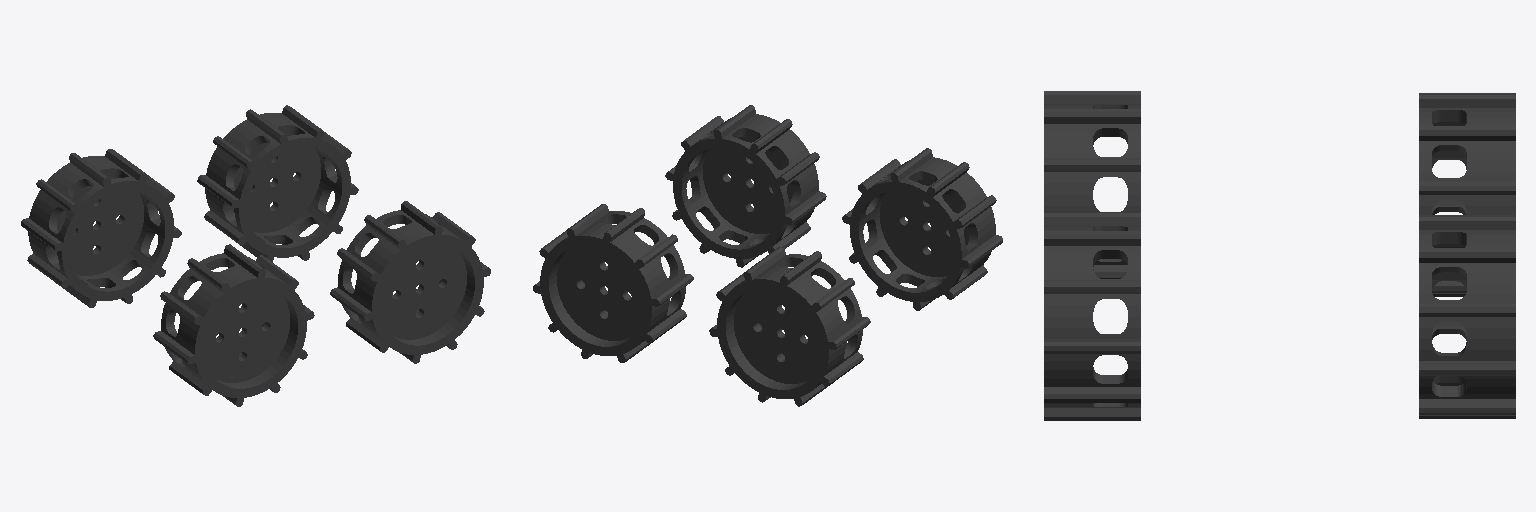
The robot description file, URDF, robot "CubeBuilder":
<?xml version="1.0" ?>
<robot name="CubeBuilder">

    <!-- Structure -->
    <link name="structure">
        <visual>
            <geometry>
                <mesh filename="BuildingBlocks_main_structure_v2.stl" scale="1 1 1"/>
            </geometry>
            <material name="dark_grey">
                <color rgba="0.6 0.6 0.6 1"/>
            </material>
        </visual>
        <collision>
            <geometry>
                <mesh filename="BuildingBlocks_main_structure.stl" scale="1 1 1"/>
            </geometry>
        </collision>
        <inertial>
            <mass value="1.0"/>
            <inertia ixx="0.1" ixy="0" ixz="0" iyy="0.1" iyz="0" izz="0.1"/>
            <origin xyz="0 0 0" rpy="0 0 0"/>
        </inertial>
    </link>

    <!-- Wheel Links -->
    <link name="wheel_FR">
        <visual>
            <geometry>
                <mesh filename="BuildingBlocks_wheel.stl" scale="1 1 1"/>
            </geometry>
            <material name="black">
                <color rgba="0.3 0.3 0.3 1"/>
            </material>
        </visual>
        <collision>
            <geometry>
                <mesh filename="BuildingBlocks_wheel.stl" scale="1 1 1"/>
            </geometry>
        </collision>
        <inertial>
            <mass value="0.05"/>
            <inertia ixx="0.01" ixy="0" ixz="0" iyy="0.01" iyz="0" izz="0.01"/>
        </inertial>
    </link>

    <link name="wheel_FL">
        <visual>
            <geometry>
                <mesh filename="BuildingBlocks_wheel.stl" scale="1 1 1"/>
            </geometry>
            <material name="black">
                <color rgba="0.3 0.3 0.3 1"/>
            </material>
        </visual>
        <collision>
            <geometry>
                <mesh filename="BuildingBlocks_wheel.stl" scale="1 1 1"/>
            </geometry>
        </collision>
        <inertial>
            <mass value="0.05"/>
            <inertia ixx="0.01" ixy="0" ixz="0" iyy="0.01" iyz="0" izz="0.01"/>
        </inertial>
    </link>

    <link name="wheel_RR">
        <visual>
            <geometry>
                <mesh filename="BuildingBlocks_wheel.stl" scale="1 1 1"/>
            </geometry>
            <material name="black">
                <color rgba="0.3 0.3 0.3 1"/>
            </material>
        </visual>
        <collision>
            <geometry>
                <mesh filename="BuildingBlocks_wheel.stl" scale="1 1 1"/>
            </geometry>
        </collision>
        <inertial>
            <mass value="0.05"/>
            <inertia ixx="0.01" ixy="0" ixz="0" iyy="0.01" iyz="0" izz="0.01"/>
        </inertial>
    </link>

    <link name="wheel_RL">
        <visual>
            <geometry>
                <mesh filename="BuildingBlocks_wheel.stl" scale="1 1 1"/>
            </geometry>
            <material name="black">
                <color rgba="0.3 0.3 0.3 1"/>
            </material>
        </visual>
        <collision>
            <geometry>
                <mesh filename="BuildingBlocks_wheel.stl" scale="1 1 1"/>
            </geometry>
        </collision>
        <inertial>
            <mass value="0.05"/>
            <inertia ixx="0.01" ixy="0" ixz="0" iyy="0.01" iyz="0" izz="0.01"/>
        </inertial>
    </link>

    <!-- Joints to Attach Wheels to Structure with Free Rotation on Y-axis -->

    <!-- Front Right Wheel -->
    <joint name="wheel_FR_joint" type="continuous">
        <parent link="structure"/>
        <child link="wheel_FR"/>
        <origin xyz="0.0307204 -0.0436276 0." rpy="0 0 0"/>
        <axis xyz="0 1 0"/>
    </joint>

    <!-- Front Left Wheel -->
    <joint name="wheel_FL_joint" type="continuous">
        <parent link="structure"/>
        <child link="wheel_FL"/>
        <origin xyz="0.0307204 0.0436276 0" rpy="0 0 3.14159"/>
        <axis xyz="0 1 0"/>
    </joint>

    <!-- Rear Right Wheel -->
    <joint name="wheel_RR_joint" type="continuous">
        <parent link="structure"/>
        <child link="wheel_RR"/>
        <origin xyz="-0.030635 -0.0436276 0" rpy="0 0 0"/>
        <axis xyz="0 1 0"/>
    </joint>

    <!-- Rear Left Wheel -->
    <joint name="wheel_RL_joint" type="continuous">
        <parent link="structure"/>
        <child link="wheel_RL"/>
        <origin xyz="-0.030635 0.0436276 0" rpy="0 0 3.14159"/>
        <axis xyz="0 1 0"/>
    </joint>

</robot>

--- What the picture shows (computed from the rendered views, not written in the file) ---
Views: 3 orthographic renders of the robot side by side, from view 1: azimuth 30°, elevation 25°; view 2: azimuth 150°, elevation 25°; view 3: azimuth 270°, elevation 25°.
Model CubeBuilder with 5 links and 4 joints (4 continuous), rooted at structure, posed all joints at 0.
Visible links, largest first — view 1: wheel_RL, wheel_FR, wheel_RR, wheel_FL; view 2: wheel_RL, wheel_FL, wheel_RR, wheel_FR; view 3: wheel_FL, wheel_FR, wheel_RL, wheel_RR.
Boxes of the visible links, x1,y1,x2,y2 form: wheel_RL: [21, 149, 181, 307]; wheel_FR: [330, 201, 490, 363]; wheel_RR: [153, 244, 314, 406]; wheel_FL: [197, 105, 358, 261]; wheel_RL: [709, 247, 870, 406]; wheel_FL: [533, 204, 693, 362]; wheel_RR: [842, 148, 1002, 310]; wheel_FR: [665, 105, 826, 267]; wheel_FL: [1419, 215, 1515, 418]; wheel_FR: [1044, 213, 1140, 420]; wheel_RL: [1419, 93, 1515, 296]; wheel_RR: [1044, 91, 1140, 278].
Bounding box of the posed robot: 0.1055 × 0.1003 × 0.0438 m (x, y, z).
Meshes: 2 distinct files referenced, 4 mesh visuals loaded (1 binary STL); not drawn: 1 (reference not matched to a file when rendering).